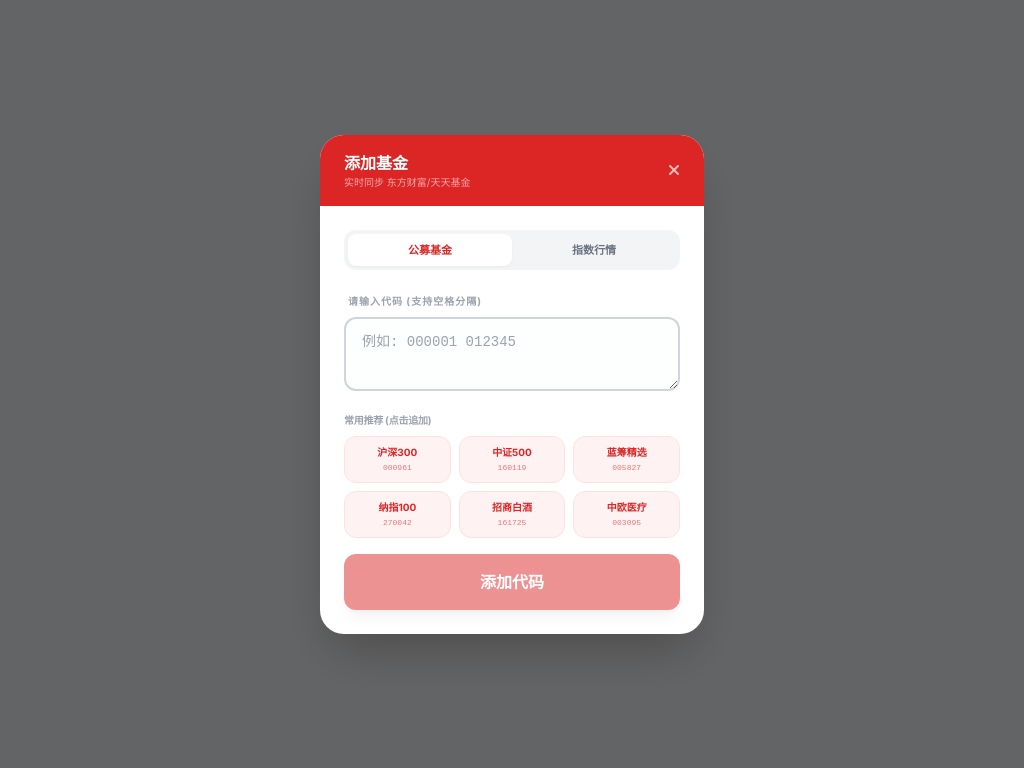
Test: AddTickerModal › shows alert modal on malformed input (invalid fund code)
Note: use a numeric too-short input which the component will reject
Type "123" into the text box with placeholder "例如: 000001 012345" at (512, 354), box [344,317,680,390]
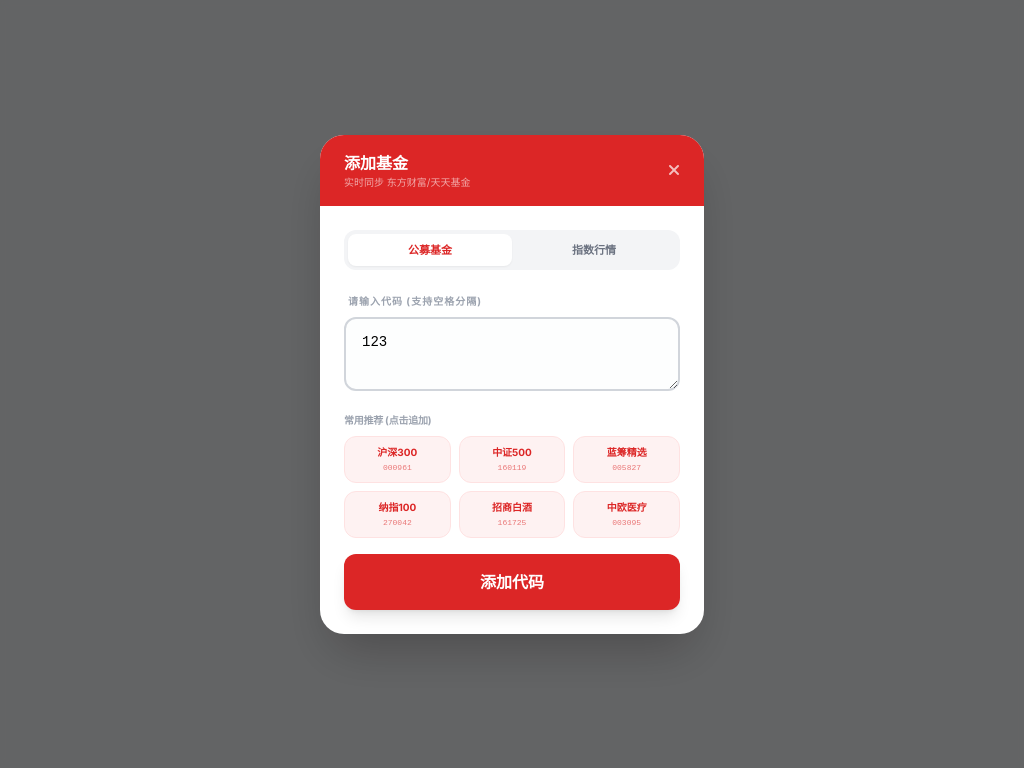
Click the button "添加代码" at (512, 582), box [344,554,680,610]
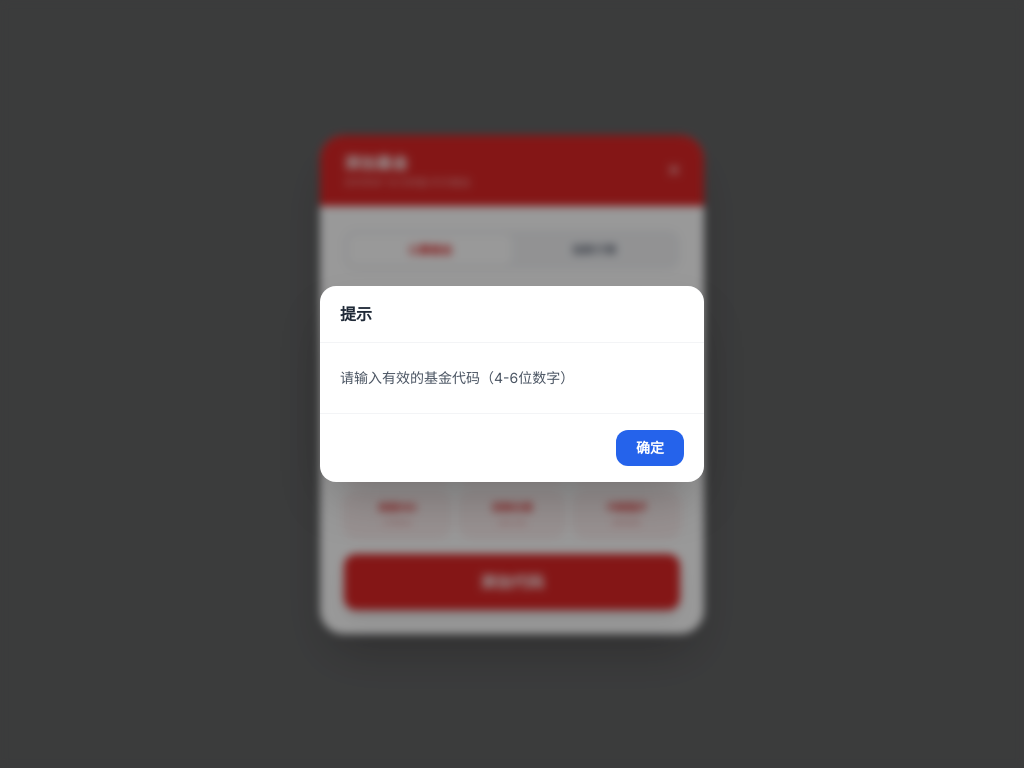
Check: the text "请输入有效的基金代码（4-6位数字）" is shown, box [340,369,574,386]
